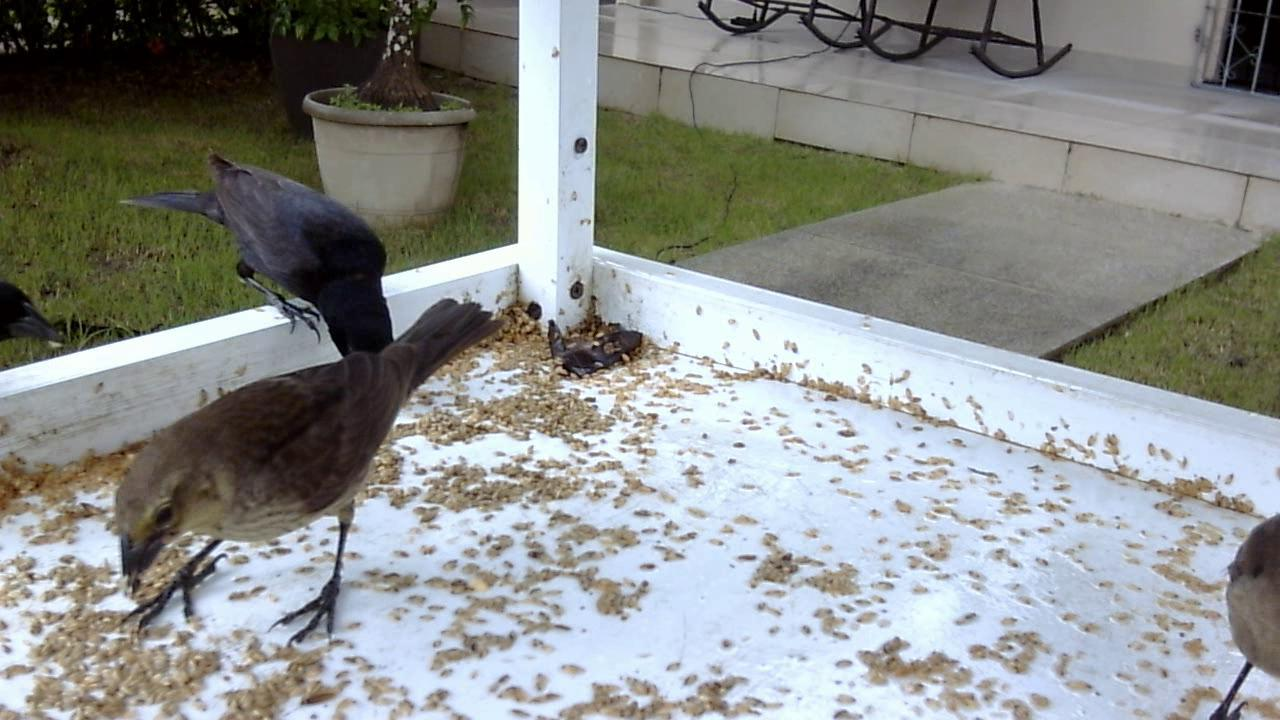chupim: (107, 293, 499, 661), (124, 146, 403, 359)
